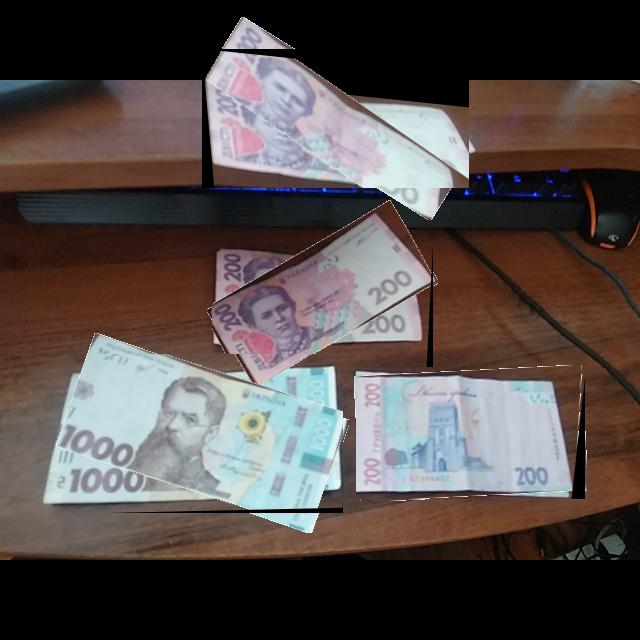1000uah: (62, 354, 344, 514)
200uah: (202, 49, 470, 189), (212, 224, 434, 368), (356, 368, 586, 500)
